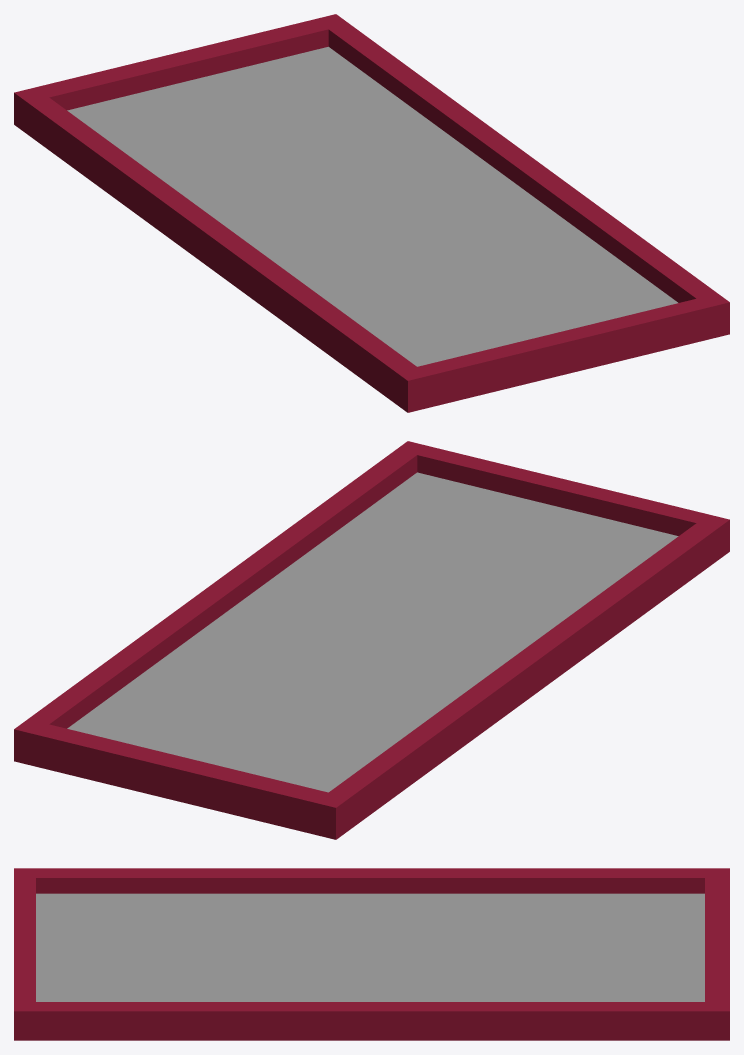
Rendered from roof.fbx.
3 renders of one model, top to bottom at view 1: azimuth 30°, elevation 25°; view 2: azimuth 150°, elevation 25°; view 3: azimuth 270°, elevation 25°, orthographic. The views are drawn at different scales.
Parts seen in each view (by area): view 1: roof; view 2: roof; view 3: roof.
Boxes of the visible parts, x1,y1,x2,y2 form: roof: (14,14,729,412); roof: (14,441,729,839); roof: (14,868,729,1040).
Size of the model in its own units: 6.8 by 0.6468 by 14.4.
